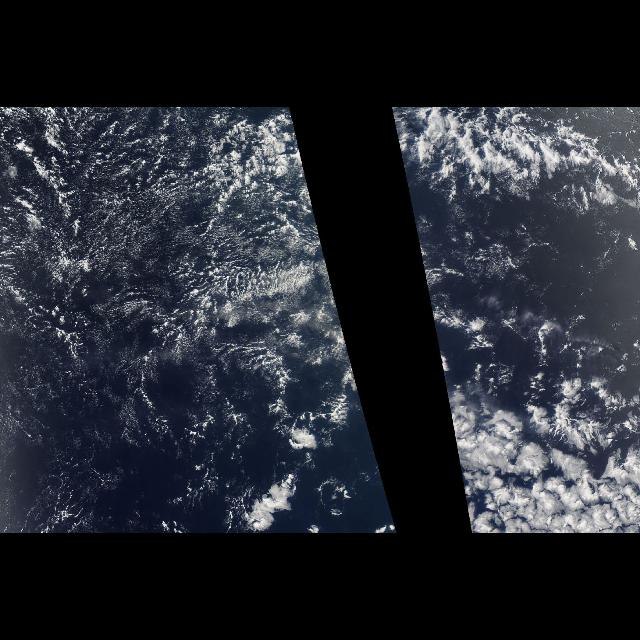Flower: (444, 387, 638, 499)
Gravel: (1, 111, 278, 352)
Sugar: (5, 111, 292, 445)
